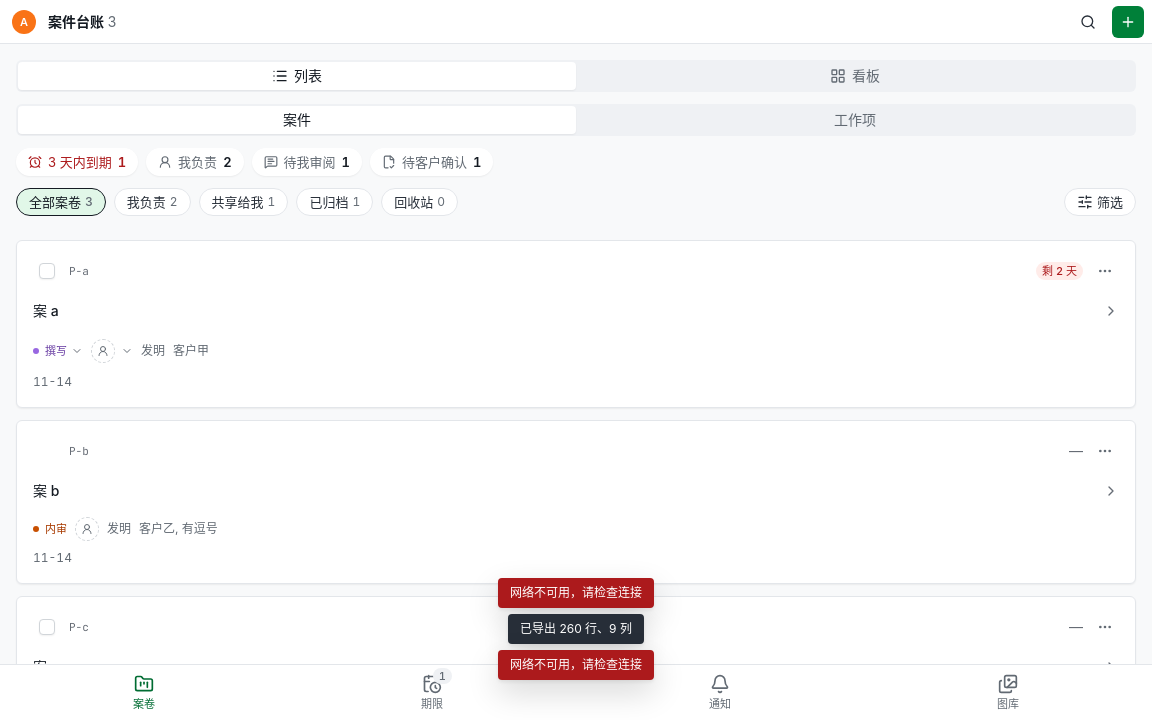
「我的今天」摘要条（R-HOME-06 / W6 §3.12） › 375：今日摘要条只渲染非零 pill（mention=0 不占位），点 pill 筛选卡片列表
Click the button "待我审阅 1" at (307, 162), box [252,148,362,176]
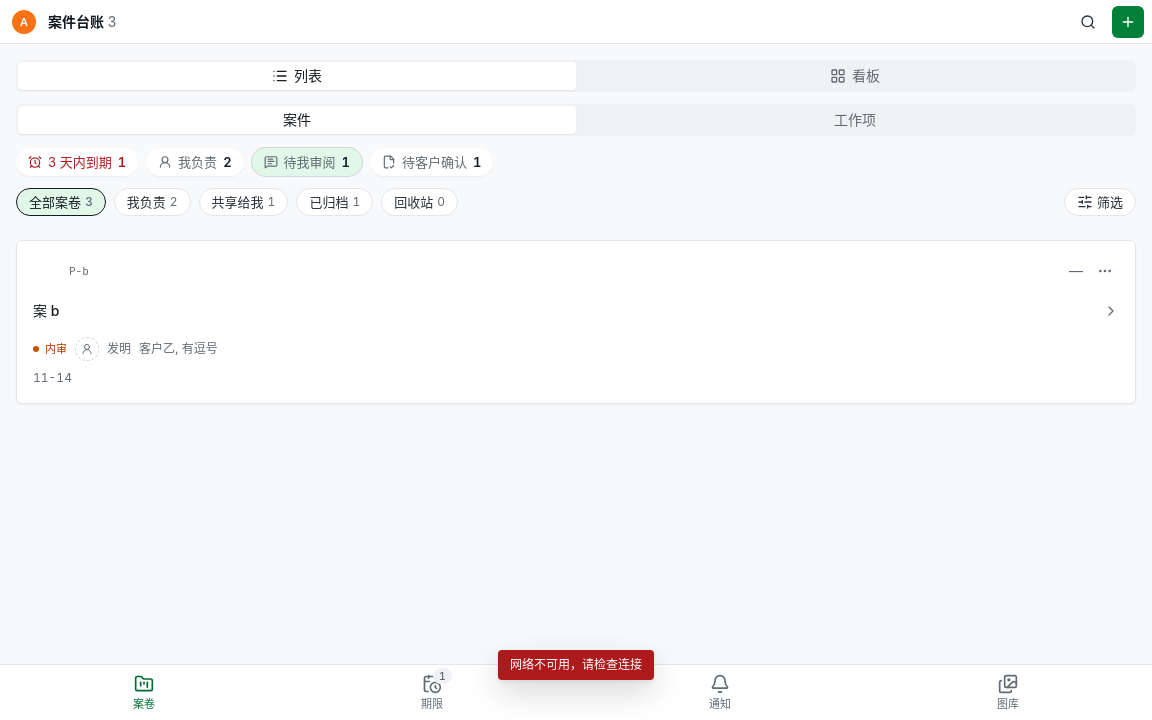
Check: the number of list items is 1, box [16,240,1136,404]
